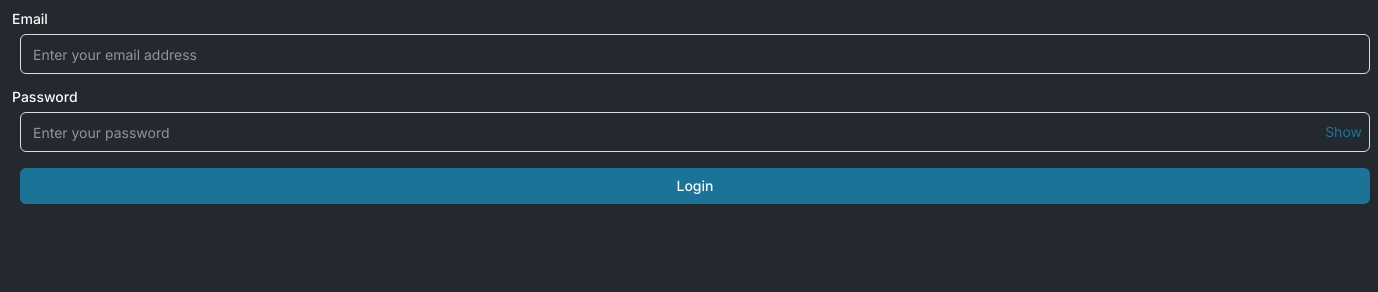
LoginForm › Failed login › displays generic error message on signIn exception
Type "test@example.com" into the field with test id "email-input". click: {"x": 695, "y": 54}
box: [20,34,1370,74]
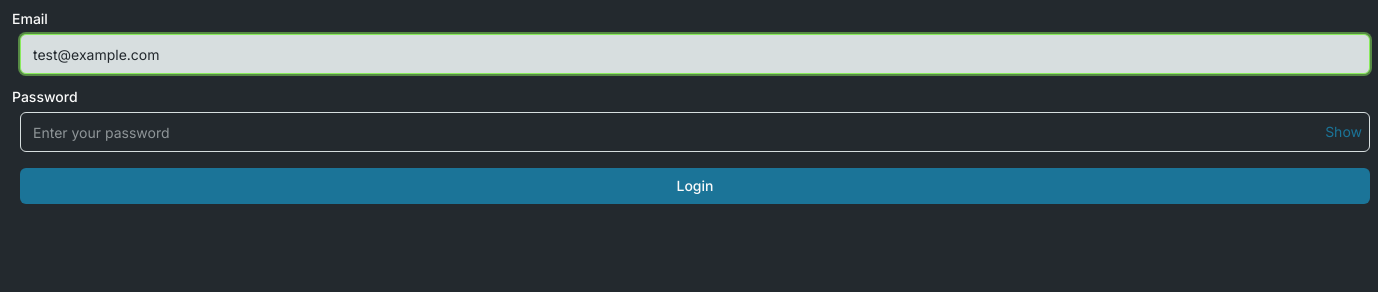
Type "password123" into the password field with test id "password-input". click: {"x": 695, "y": 132}
box: [20,112,1370,152]
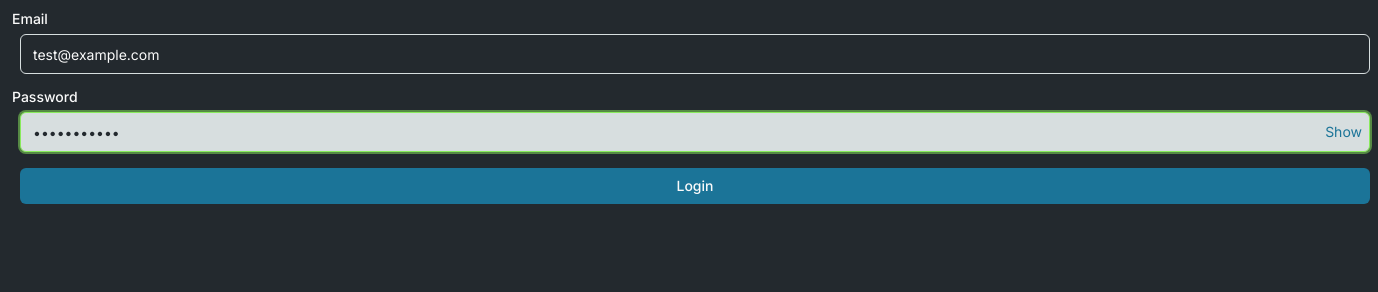
Click the button with test id "login-button". click: {"x": 695, "y": 186}
box: [20,168,1370,204]
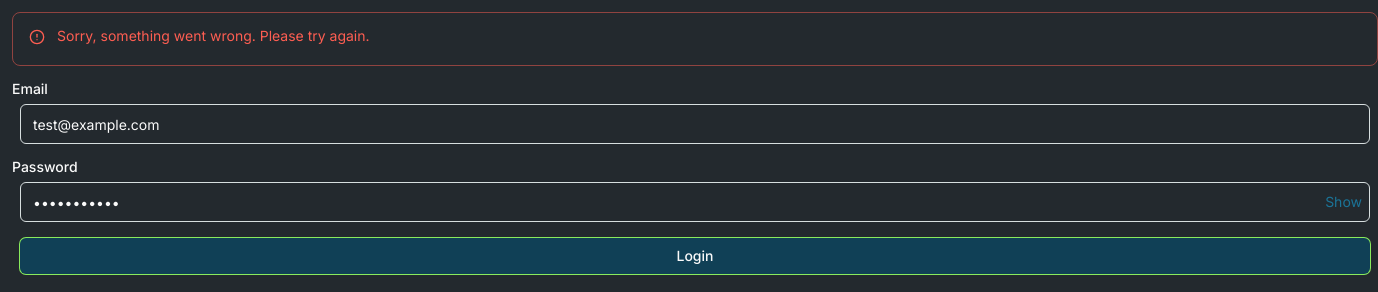
Check: the message "Sorry, something went wrong. Please try again." is shown, box [12,12,1377,66]
Check: the text "Sorry, something went wrong. Please try again." is shown, box [57,27,370,44]
